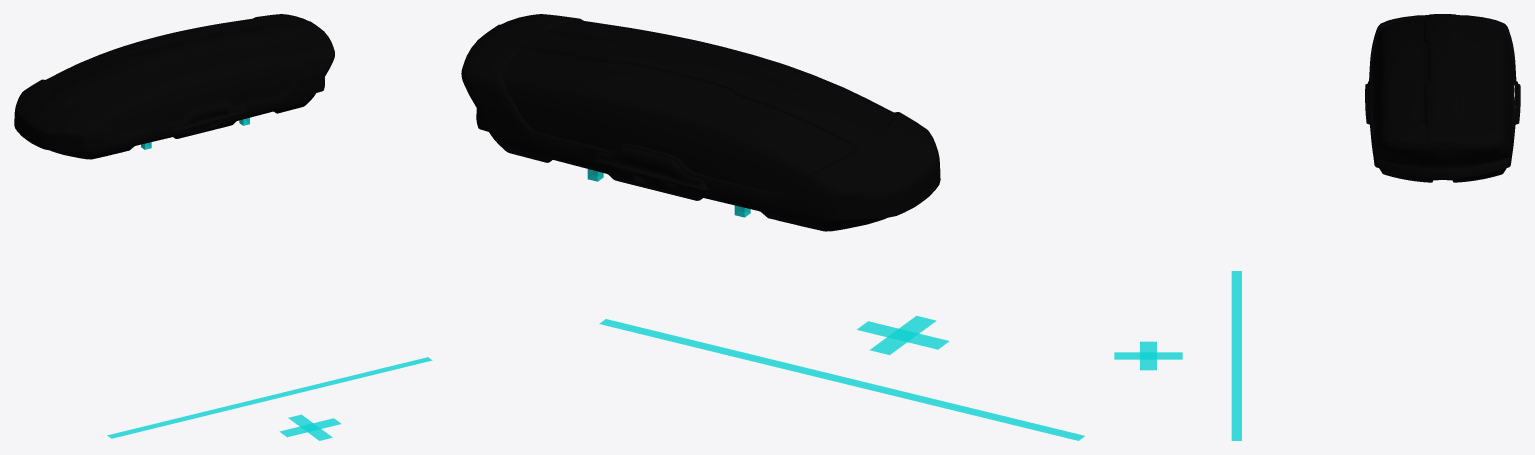
File: Plus.glb
3 views of the same model, side by side, from view 1: azimuth 30°, elevation 25°; view 2: azimuth 150°, elevation 25°; view 3: azimuth 270°, elevation 25° (orthographic). The views are drawn at different scales.
Visible parts, largest first — view 1: XT_XL_low, Plane003; view 2: XT_XL_low, Plane003; view 3: XT_XL_low, Plane003.
Part boxes in pixels (bbox=[...]): XT_XL_low: bbox=[14, 14, 334, 159]; Plane003: bbox=[107, 357, 432, 440]; XT_XL_low: bbox=[461, 14, 940, 231]; Plane003: bbox=[599, 315, 1084, 440]; XT_XL_low: bbox=[1365, 14, 1520, 182]; Plane003: bbox=[1114, 271, 1241, 440].
Size of the model in its own units: 2.35 by 1.95 by 2.37.
Materials: 3 (2 with a texture image).
